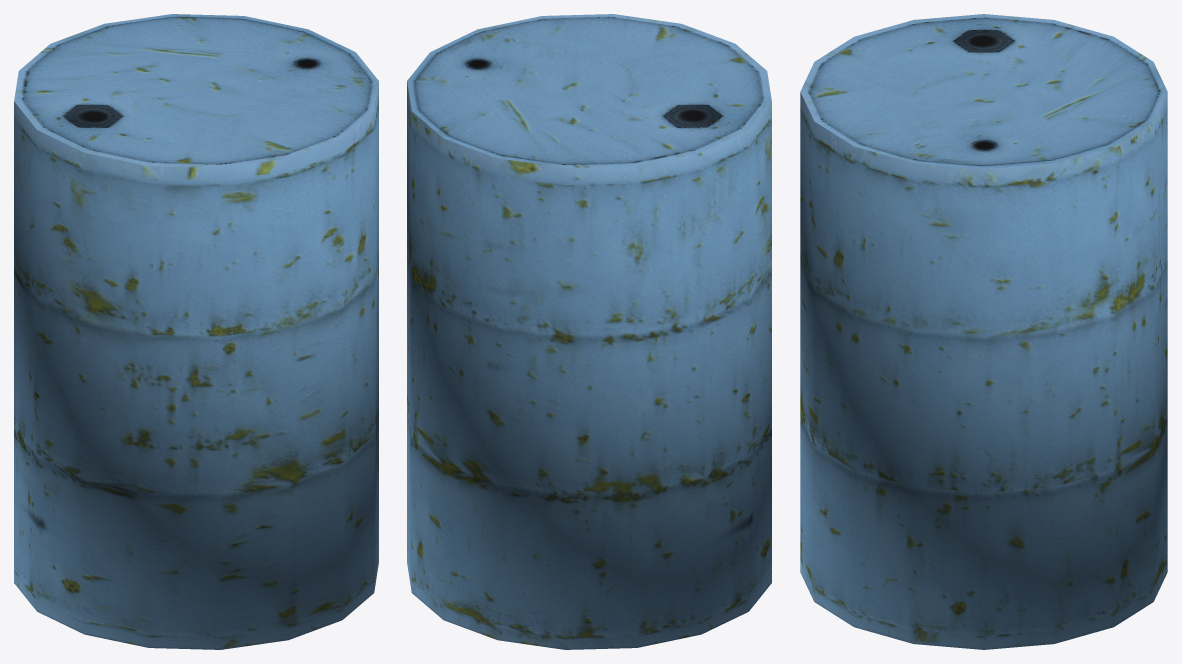
The model's file is barrel.obj.
3 views of the same model, side by side, from view 1: azimuth 30°, elevation 25°; view 2: azimuth 150°, elevation 25°; view 3: azimuth 270°, elevation 25° (orthographic).
Parts seen in each view (by area): view 1: barreloil1_barreloiloa6; view 2: barreloil1_barreloiloa6; view 3: barreloil1_barreloiloa6.
Part boxes in pixels (left/top/right/bottom): barreloil1_barreloiloa6: left=14, top=14, right=378, bottom=649; barreloil1_barreloiloa6: left=407, top=14, right=771, bottom=649; barreloil1_barreloiloa6: left=800, top=14, right=1167, bottom=649.
Size of what is drawn, in the model's own units: 0.6108 by 0.8823 by 0.6108.
